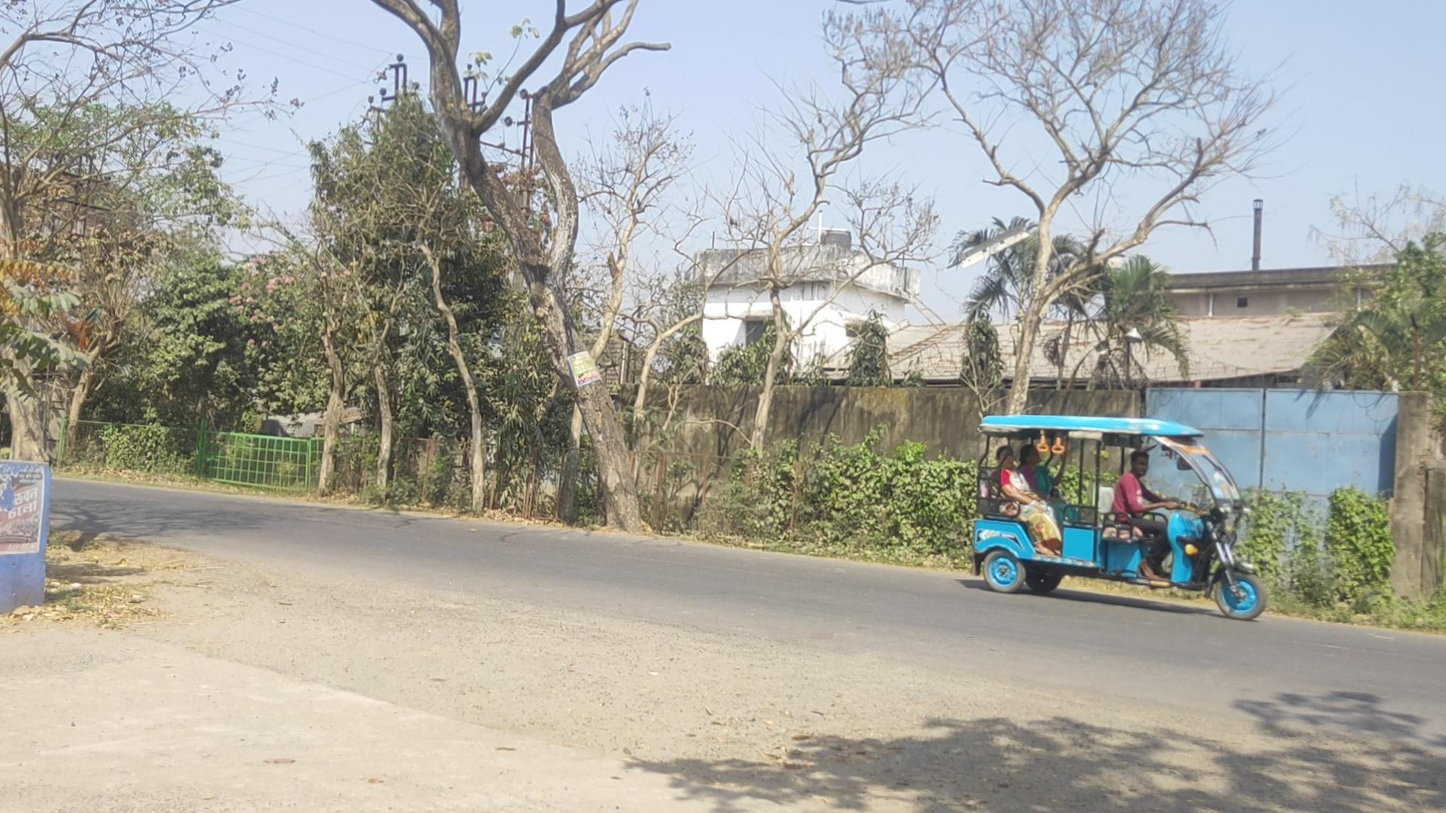Auto: (972, 415, 1267, 621)
